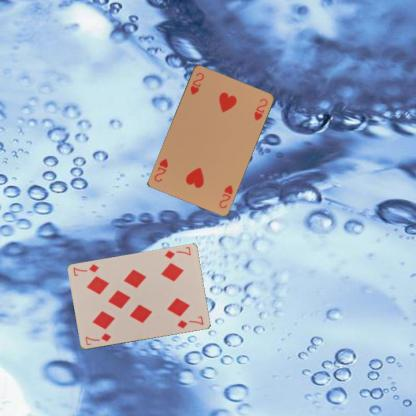2h: (216, 182, 234, 209), (187, 70, 205, 96)
7d: (162, 244, 192, 260), (83, 331, 112, 347)
